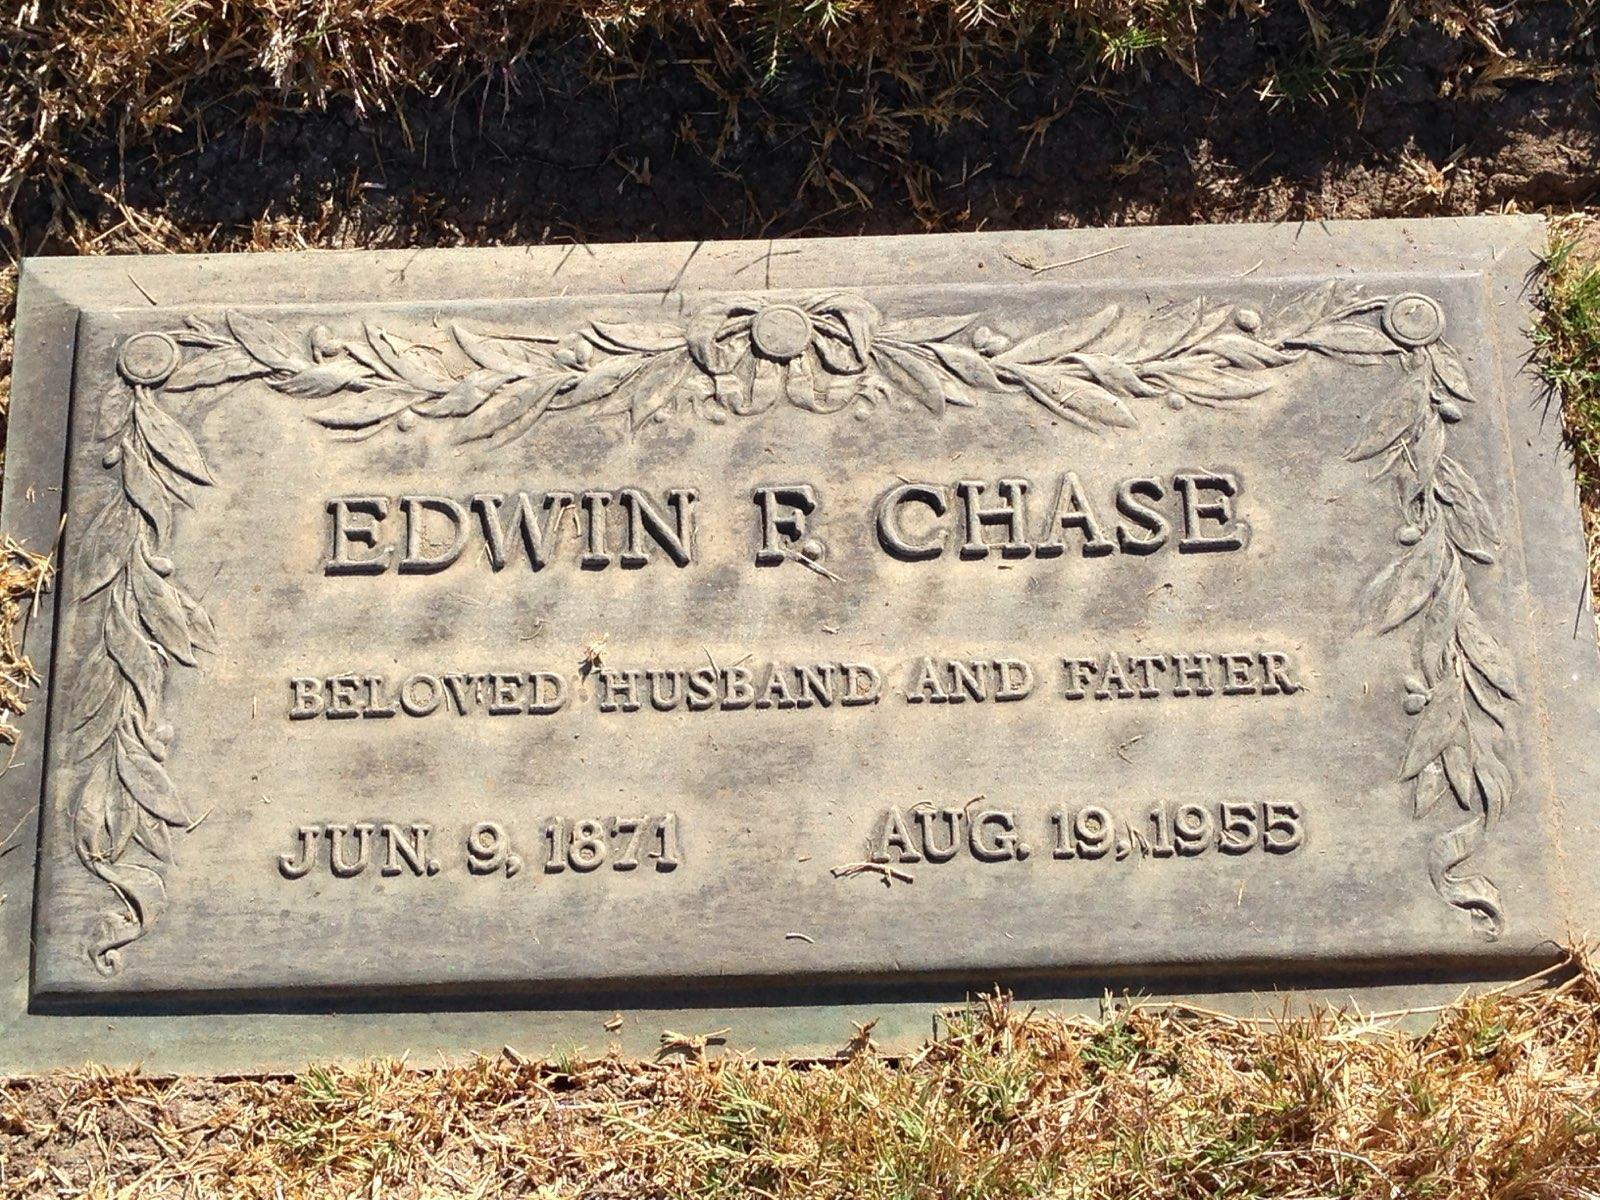flat: (0, 213, 1595, 1082)
